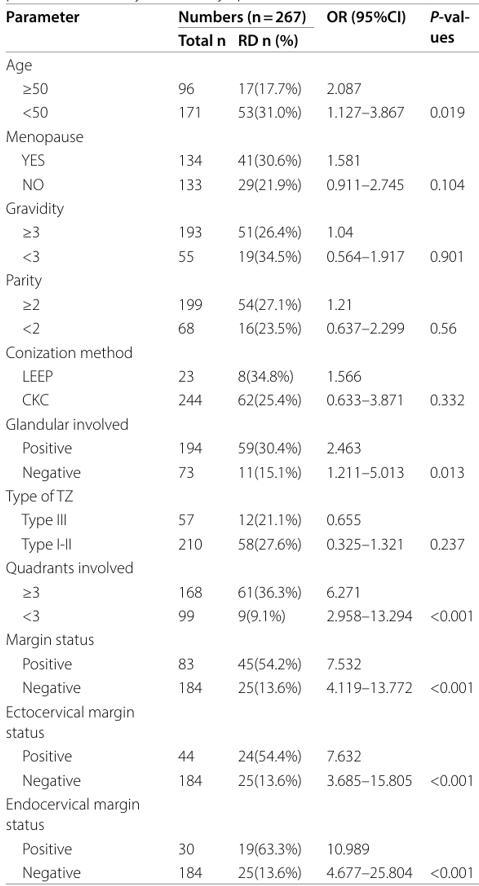table: (5, 5, 473, 881)
table column: (5, 5, 128, 881), (315, 5, 420, 881), (128, 5, 231, 881), (231, 5, 315, 881), (420, 5, 473, 881)
table column header: (5, 5, 473, 51)
table projected row header: (5, 698, 473, 743), (5, 791, 473, 835), (5, 51, 473, 75), (5, 123, 473, 147), (5, 195, 473, 219), (5, 267, 473, 291), (5, 339, 473, 363), (5, 411, 473, 435), (5, 482, 473, 506), (5, 554, 473, 578), (5, 626, 473, 650)
table row: (5, 698, 473, 743), (5, 791, 473, 835), (5, 27, 473, 51), (5, 51, 473, 75), (5, 75, 473, 99), (5, 99, 473, 123), (5, 123, 473, 147), (5, 147, 473, 171), (5, 171, 473, 195), (5, 195, 473, 219), (5, 219, 473, 243), (5, 243, 473, 267), (5, 267, 473, 291), (5, 291, 473, 315), (5, 315, 473, 339), (5, 339, 473, 363), (5, 363, 473, 387), (5, 387, 473, 411), (5, 411, 473, 435), (5, 435, 473, 459), (5, 482, 473, 506), (5, 506, 473, 530), (5, 530, 473, 554), (5, 554, 473, 578), (5, 578, 473, 602), (5, 602, 473, 626), (5, 626, 473, 650), (5, 650, 473, 674), (5, 674, 473, 698), (5, 743, 473, 767), (5, 767, 473, 791), (5, 835, 473, 859), (5, 459, 473, 482), (5, 5, 473, 27), (5, 859, 473, 881)
table spanning cell: (5, 5, 128, 51), (315, 5, 420, 51), (128, 5, 315, 27), (420, 5, 473, 51)
